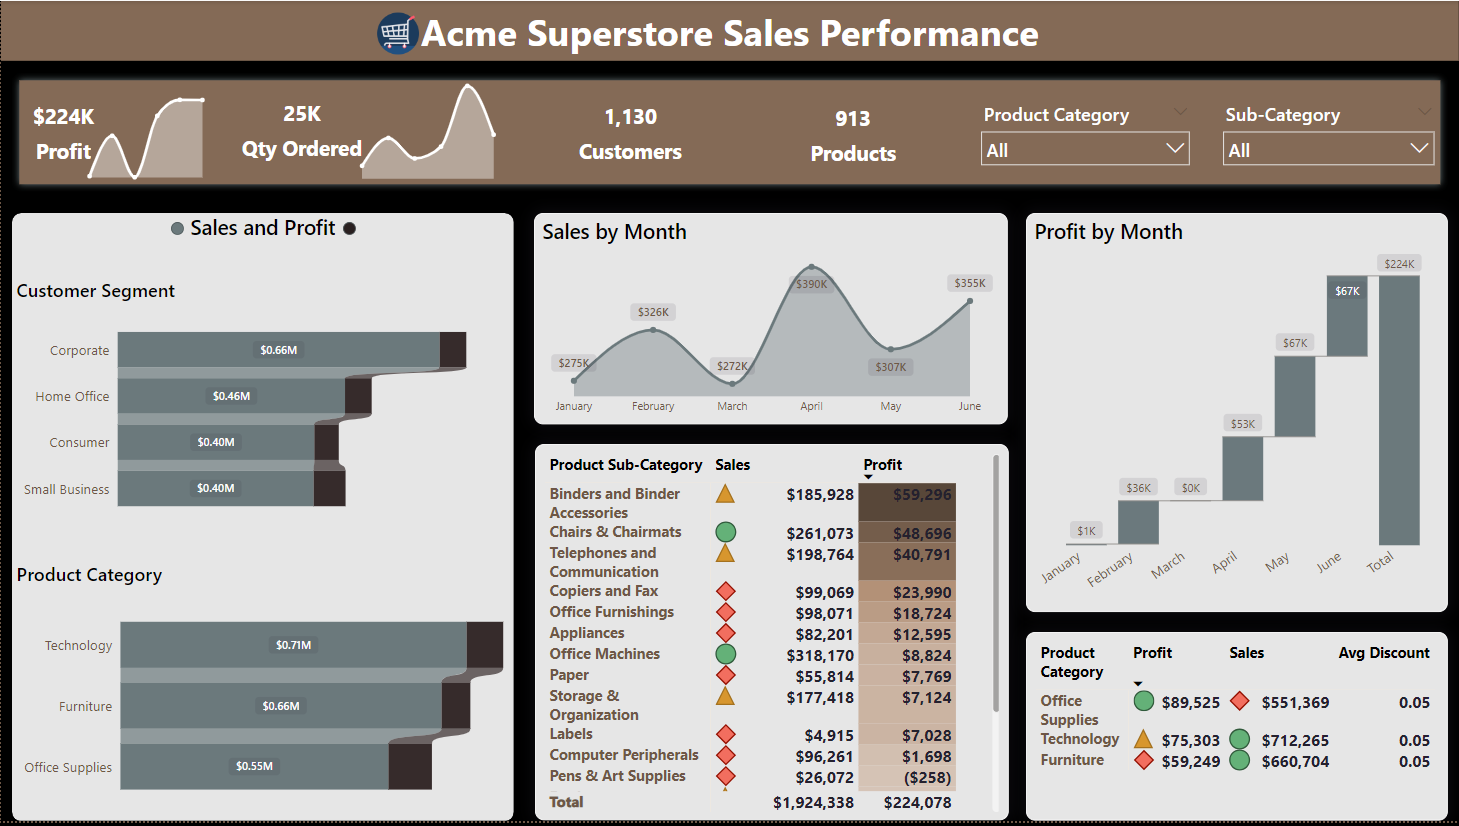

The dashboard page shown, as its layout file describes it:
{"tool":"powerbi","page":{"name":"Products","canvas":[2700,1500],"ordinal":1},"visuals":[{"type":"shape","box":[5.2,7.8,225,1492.8],"z":0,"group":"g1"},{"type":"pivotTable","title":"Products Performance Overview","fields":{"Rows":["Orders.Product Sub-Category"],"Values":["measures_.profit margin","Orders.total_sales","Orders.total_profit","SparklineData(measures_.total_profit_[Date Table.Month])"]},"box":[1275.1,339.5,1409.8,1145.5],"z":0},{"type":"group","id":"g1","title":"Group 5","box":[5.2,7.8,225,1492.8],"z":1000},{"type":"cardVisual","title":"Orders","fields":{"Data":["Sum(Orders.Quantity ordered new)"]},"box":[1810,186.6,450.9,127],"z":2000},{"type":"pageNavigator","box":[15.5,513.1,204.7,178.8],"z":3000},{"type":"columnChart","title":"Profit by Product Category for each Month","fields":{"Category":["Date Table.Month Name"],"Y":["Orders.total_profit"],"Series":["Orders.Product Category"]},"box":[251.4,339.5,1000.4,549.4],"z":4000},{"type":"slicer","fields":{"Values":["Date Table.Month Name"]},"box":[2373.9,31.1,311,85.5],"z":5000},{"type":"textbox","box":[251.4,7.8,888.9,171],"z":6000},{"type":"image","box":[36.3,15.7,144.4,162.9],"z":6000,"group":"g1"},{"type":"textbox","box":[5.5,85.4,222.3,253.6],"z":7000,"group":"g1"},{"type":"cardVisual","title":"Products","fields":{"Data":["Count(Orders.Product Sub-Category)"]},"box":[1277.7,186.6,513.1,127],"z":7000},{"type":"cardVisual","title":"Products","fields":{"Data":["Count(Orders.Product Category)"]},"box":[761.9,184,489.8,127],"z":8000},{"type":"cardVisual","title":"Profit","fields":{"Data":["measures_.nos_of_customers"]},"box":[2275.4,186.6,409.5,127],"z":9000},{"type":"columnChart","title":"Sales by Product Category for each Month","fields":{"Category":["Date Table.Month Name"],"Y":["measures_.total_sales"],"Series":["Orders.Product Category"]},"box":[251.4,912.2,1000.4,572.7],"z":10000},{"type":"cardVisual","title":"Profit","fields":{"Data":["Count(Orders.Product Name)"]},"box":[251.4,184,490,127],"z":11000}]}

Visuals, with their boxes in screenshot pixels (x1, y1, x2, y2), scaled from the page's 2700x1500 canvas onto the 1459x826 screenshot:
shape: region(3, 4, 124, 825)
"Products Performance Overview" pivotTable: region(689, 187, 1451, 818)
"Group 5" group: region(3, 4, 124, 825)
"Orders" cardVisual: region(978, 103, 1222, 173)
pageNavigator: region(8, 283, 119, 381)
"Profit by Product Category for each Month" columnChart: region(136, 187, 676, 489)
slicer - Date Table.Month Name: region(1283, 17, 1451, 64)
textbox: region(136, 4, 616, 98)
image: region(20, 9, 98, 98)
textbox: region(3, 47, 123, 187)
"Products" cardVisual: region(690, 103, 968, 173)
"Products" cardVisual: region(412, 101, 676, 171)
"Profit" cardVisual: region(1230, 103, 1451, 173)
"Sales by Product Category for each Month" columnChart: region(136, 502, 676, 818)
"Profit" cardVisual: region(136, 101, 401, 171)
